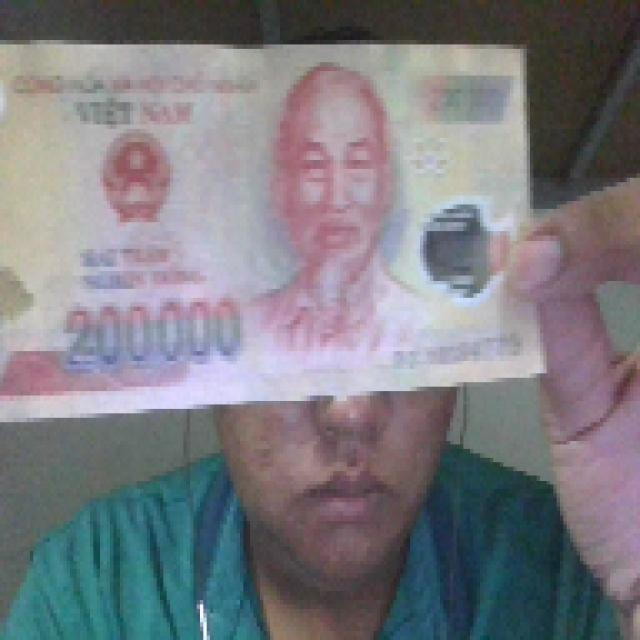200 000 VND: (0, 31, 550, 422)
